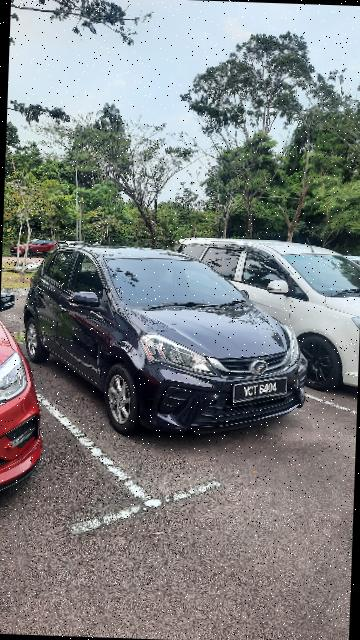License_Plate: (229, 367, 296, 409)
car: (18, 242, 316, 443)
